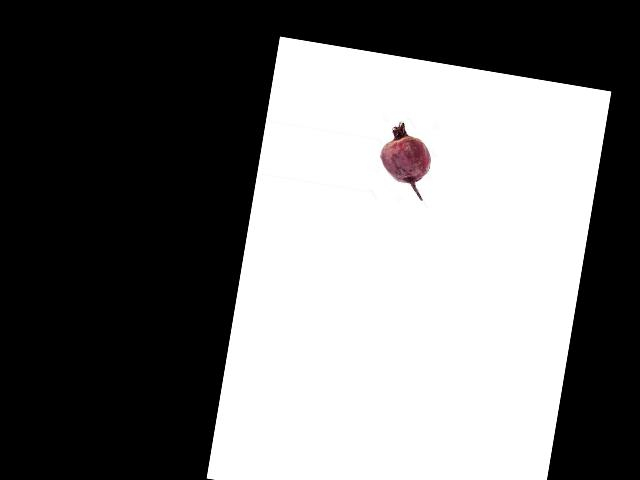beet: (374, 119, 437, 201)
